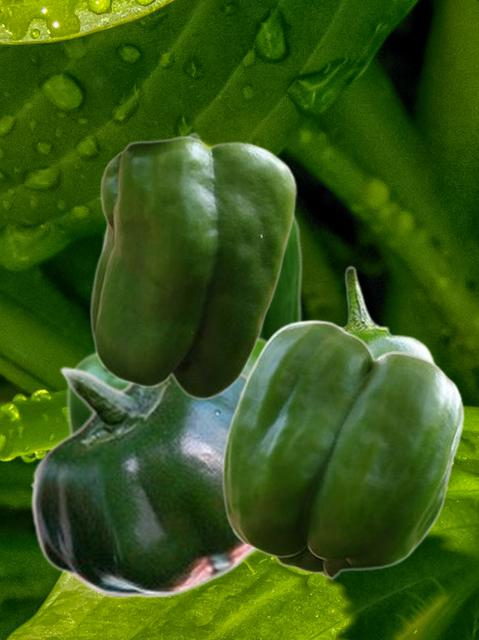bell_pepper: (221, 319, 463, 578), (89, 135, 297, 399), (29, 363, 258, 597), (65, 334, 266, 555), (101, 131, 302, 338), (338, 265, 437, 362)
